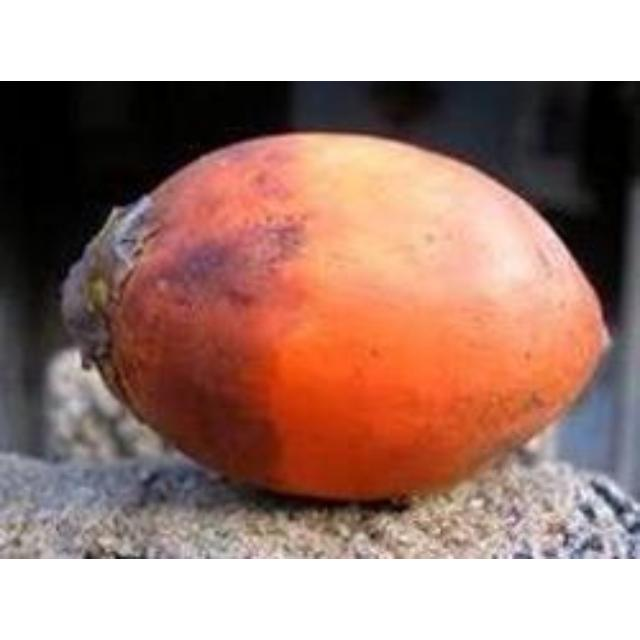good: (61, 132, 614, 506)
